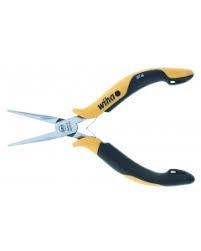pliers: (4, 66, 194, 185)
